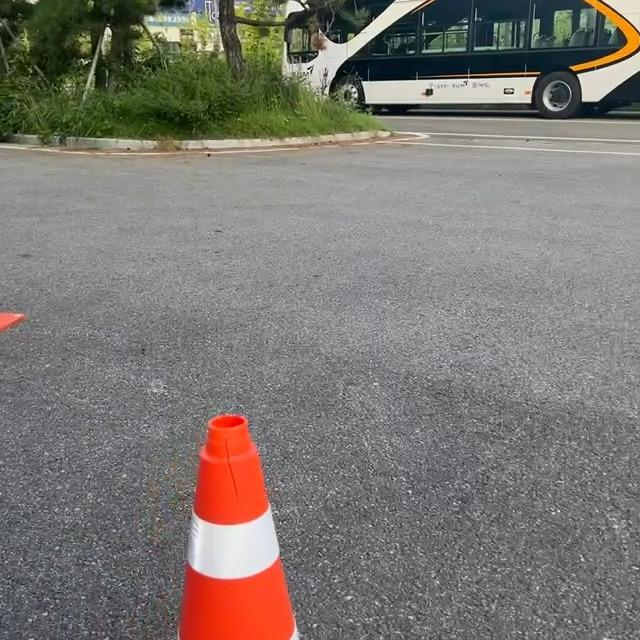fallen_object: (145, 393, 310, 640)
